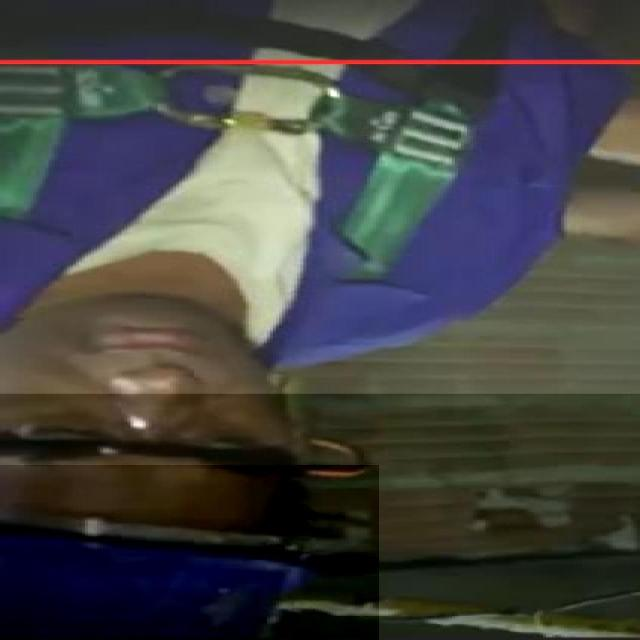Helmet: (0, 465, 379, 640)
Safety Vest: (0, 0, 640, 394)
